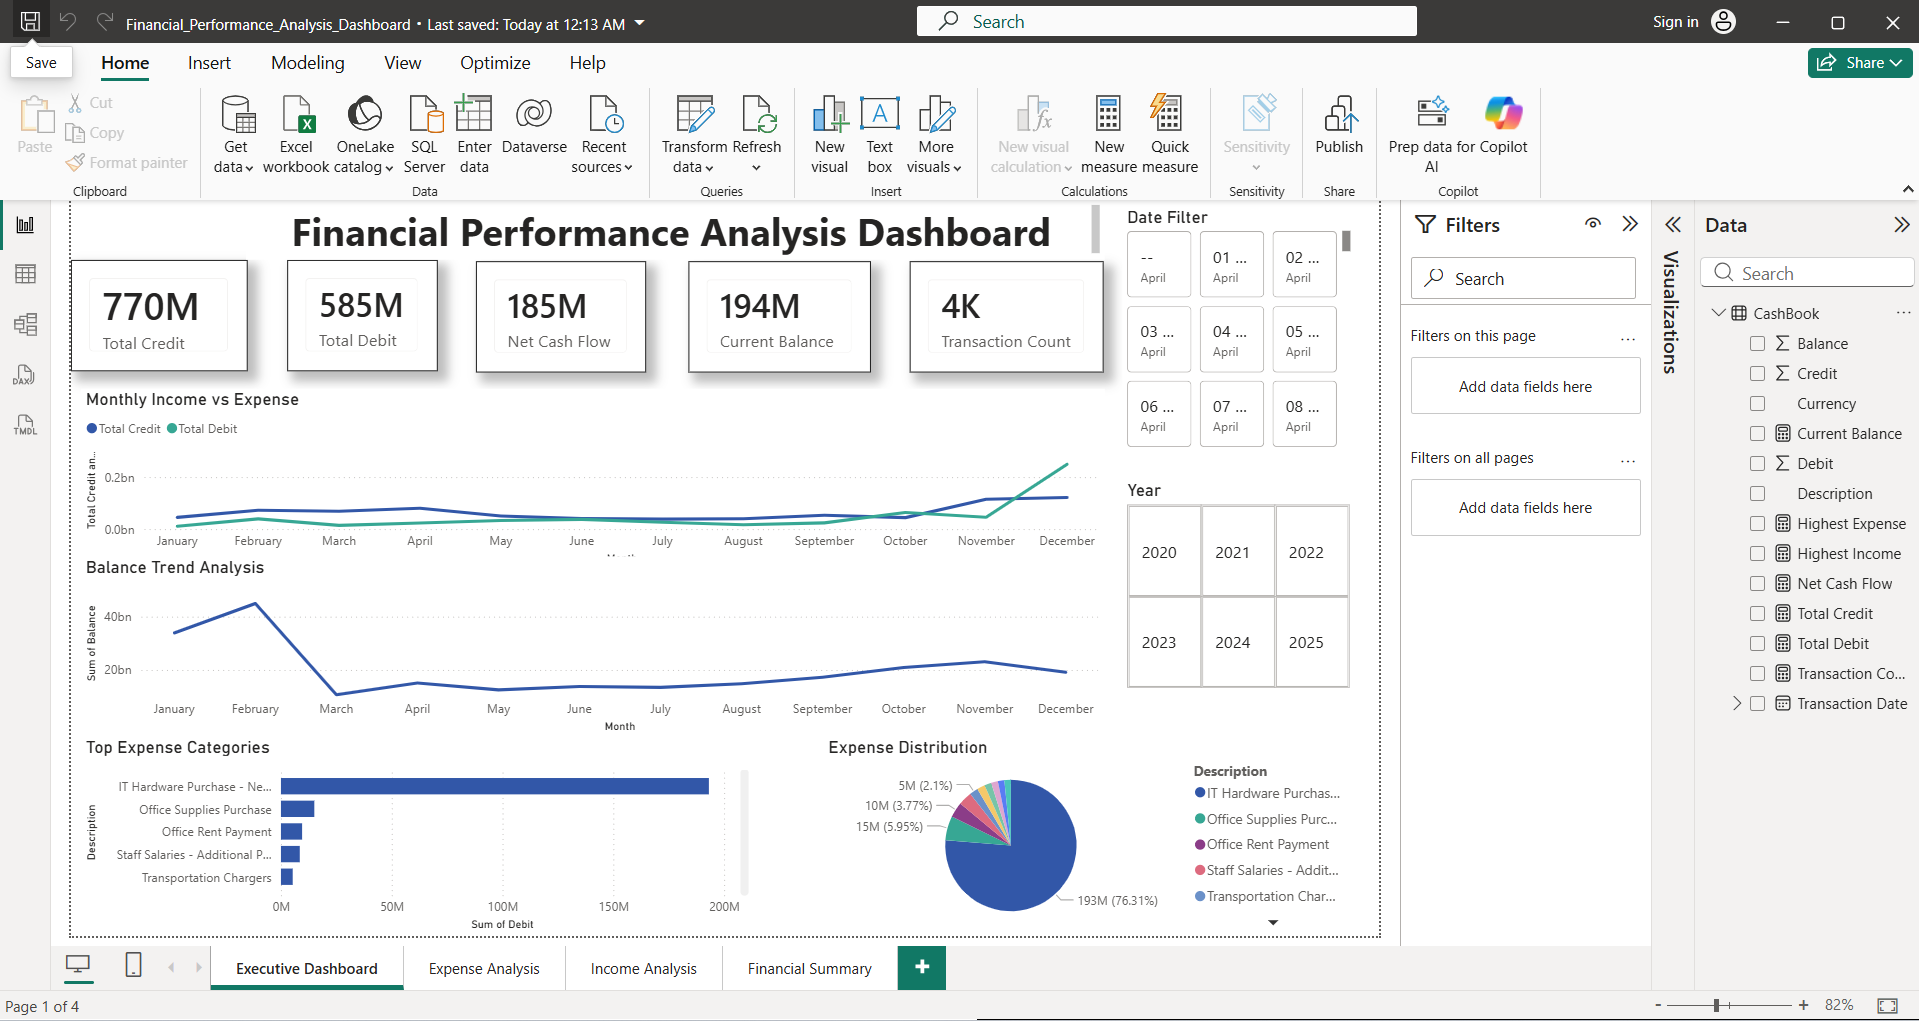

The dashboard page shown, as its layout file describes it:
{"tool":"powerbi","page":{"name":"Executive Dashboard","canvas":[1280,720],"ordinal":0},"visuals":[{"type":"cardVisual","fields":{"Data":["CashBook.Total Credit"]},"box":[0,59,172.9,108.4],"z":0},{"type":"cardVisual","fields":{"Data":["CashBook.Total Debit"]},"box":[211.3,59,146.8,108.4],"z":1000},{"type":"cardVisual","fields":{"Data":["CashBook.Net Cash Flow"]},"box":[396.6,60.4,166,108.4],"z":2000},{"type":"cardVisual","fields":{"Data":["CashBook.Current Balance"]},"box":[603.8,60.4,178.4,108.4],"z":3000},{"type":"cardVisual","fields":{"Data":["CashBook.Transaction Count"]},"box":[820.6,60.4,189.4,108.4],"z":4000},{"type":"lineChart","title":"Monthly Income vs Expense","fields":{"Category":["CashBook.Transaction Date.Variation.Date Hierarchy.Month"],"Y":["CashBook.Total Credit","CashBook.Total Debit"]},"box":[9.8,184.6,1001.5,177.3],"z":5000},{"type":"lineChart","title":"Balance Trend Analysis","fields":{"Category":["CashBook.Transaction Date.Variation.Date Hierarchy.Month"],"Y":["Sum(CashBook.Balance)"]},"box":[9.8,348.5,1000.3,177.3],"z":6000},{"type":"clusteredBarChart","title":"Top Expense Categories","fields":{"Category":["CashBook.Description"],"Y":["Sum(CashBook.Debit)"]},"box":[10,525,658.3,195],"z":7000},{"type":"advancedSlicerVisual","fields":{"Values":["CashBook.Transaction Date.Variation.Date Hierarchy.Year"]},"box":[1028.3,273.3,228.3,210],"z":8000},{"type":"advancedSlicerVisual","title":"Date Filter","fields":{"Values":["CashBook.Transaction Date"],"Label":["Min(CashBook.Transaction Date.Variation.Date Hierarchy.Month)"]},"box":[1028.3,6.7,228.3,241.7],"z":9000},{"type":"pieChart","title":"Expense Distribution","fields":{"Category":["CashBook.Description"],"Y":["CashBook.Total Debit"]},"box":[736.7,525,520,195],"z":10000},{"type":"textbox","box":[171.7,0,840,58.3],"z":11000}]}

Visuals, with their boxes on the page's 1280x720 design canvas (x1, y1, x2, y2). These are canvas units, not pixel positions in the 1919x1021 screenshot, which may show the page scaled, cropped or inside an application window:
cardVisual - CashBook.Total Credit: (x1=0, y1=59, x2=173, y2=167)
cardVisual - CashBook.Total Debit: (x1=211, y1=59, x2=358, y2=167)
cardVisual - CashBook.Net Cash Flow: (x1=397, y1=60, x2=563, y2=169)
cardVisual - CashBook.Current Balance: (x1=604, y1=60, x2=782, y2=169)
cardVisual - CashBook.Transaction Count: (x1=821, y1=60, x2=1010, y2=169)
"Monthly Income vs Expense" lineChart: (x1=10, y1=185, x2=1011, y2=362)
"Balance Trend Analysis" lineChart: (x1=10, y1=348, x2=1010, y2=526)
"Top Expense Categories" clusteredBarChart: (x1=10, y1=525, x2=668, y2=720)
advancedSlicerVisual - CashBook.Transaction Date.Variation.Date Hierarchy.Year: (x1=1028, y1=273, x2=1257, y2=483)
"Date Filter" advancedSlicerVisual: (x1=1028, y1=7, x2=1257, y2=248)
"Expense Distribution" pieChart: (x1=737, y1=525, x2=1257, y2=720)
textbox: (x1=172, y1=0, x2=1012, y2=58)
